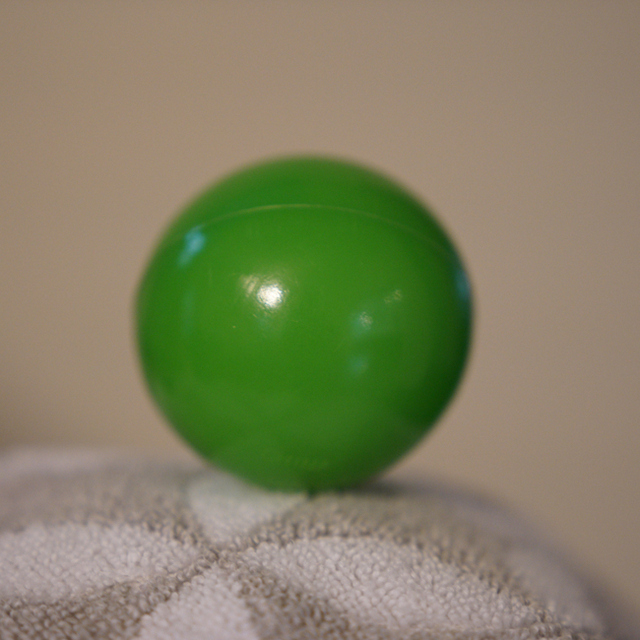Ball: (134, 153, 474, 485)
